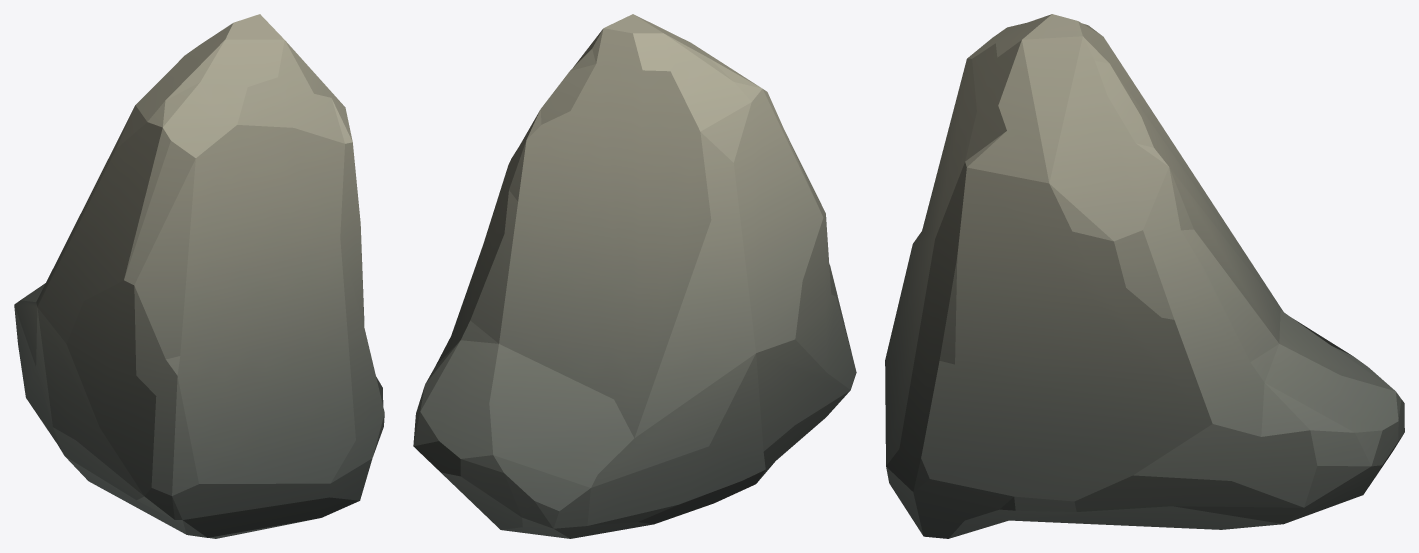
Rendered from rock_3_05.fbx.
3 views of the same model, side by side, from view 1: azimuth 30°, elevation 25°; view 2: azimuth 150°, elevation 25°; view 3: azimuth 270°, elevation 25° (orthographic). The views are drawn at different scales.
Visible parts, largest first — view 1: rock_3_05; view 2: rock_3_05; view 3: rock_3_05.
Part boxes in pixels (x1,y1,x2,y2): rock_3_05: (14,14,384,538); rock_3_05: (413,14,856,538); rock_3_05: (885,14,1404,538).
Size of the model in its own units: 67.54 by 97.93 by 90.94.
